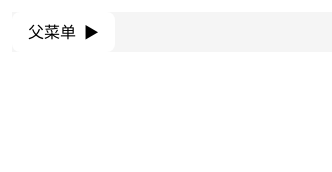
ToolbarMenu › 子菜单 › 应该展开子菜单
Step 1. Click the text "父菜单" → [52, 32], box [28,20,76,44]
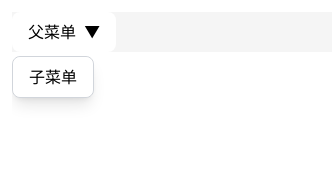
Expected: the text "子菜单" is shown, [29,65,77,89]
